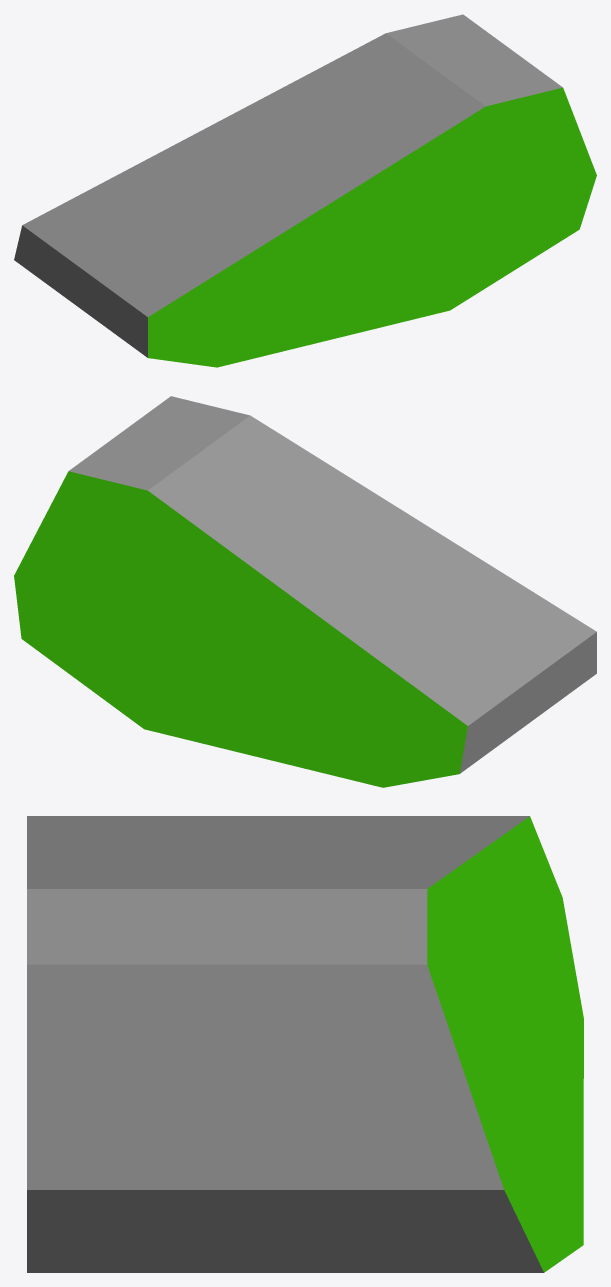
Rendered from SMB_groundM_B.fbx.
3 views of the same model, one above another, from view 1: azimuth 30°, elevation 25°; view 2: azimuth 150°, elevation 25°; view 3: azimuth 270°, elevation 25° (orthographic). The views are drawn at different scales.
Parts seen in each view (by area): view 1: SMB_groundM_B; view 2: SMB_groundM_B; view 3: SMB_groundM_B.
Boxes of the visible parts, x1,y1,x2,y2 form: SMB_groundM_B: (14,14,596,367); SMB_groundM_B: (14,396,596,787); SMB_groundM_B: (27,816,583,1272).
Bounding box in the file's own units: 4356 × 1813 × 2338.
